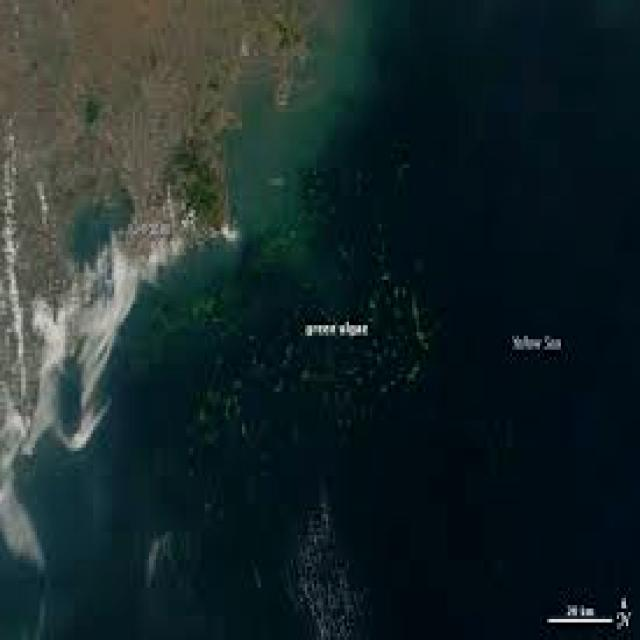algal: (110, 42, 425, 619)
